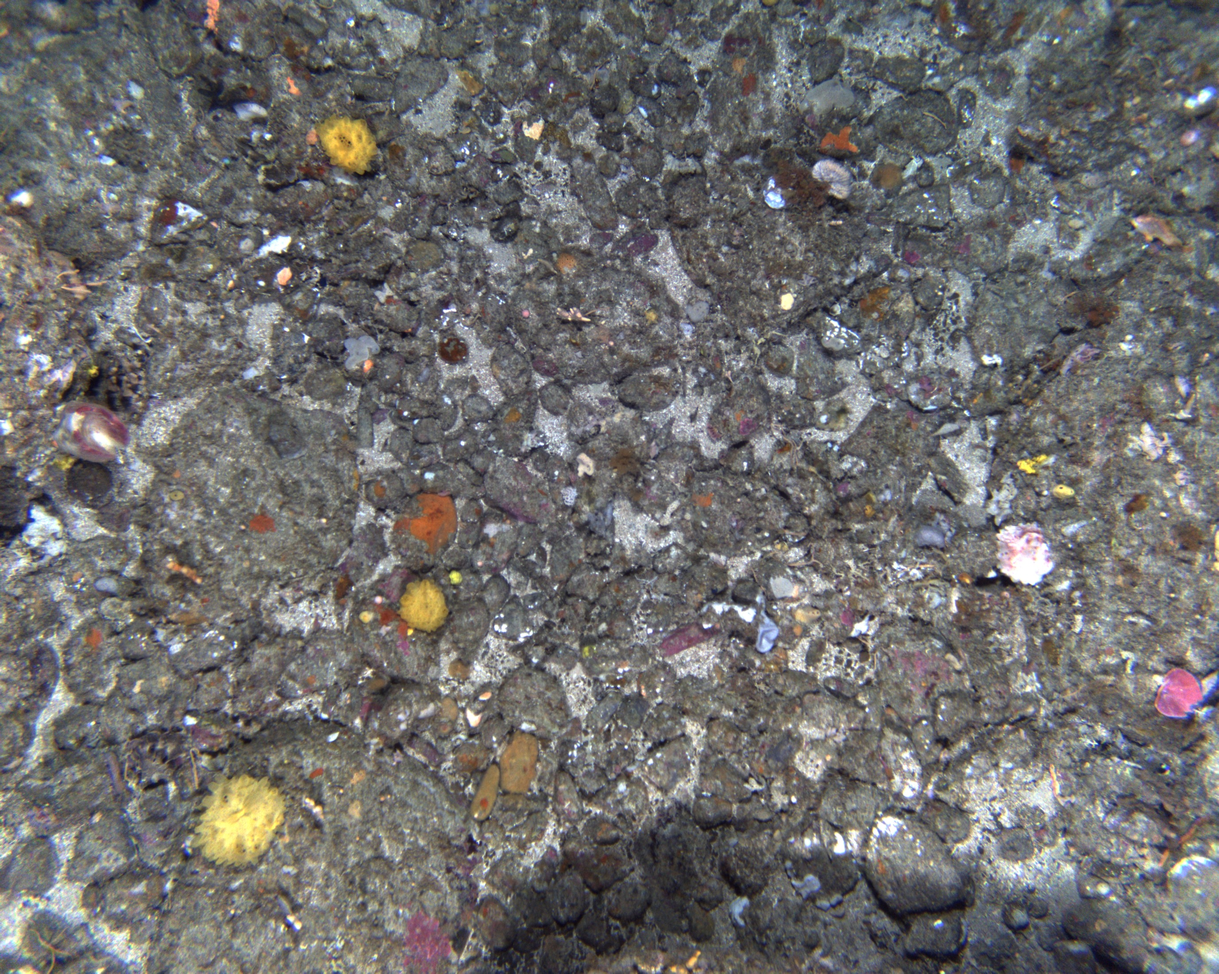Brachionichthyidae: (1127, 210, 1195, 255)
